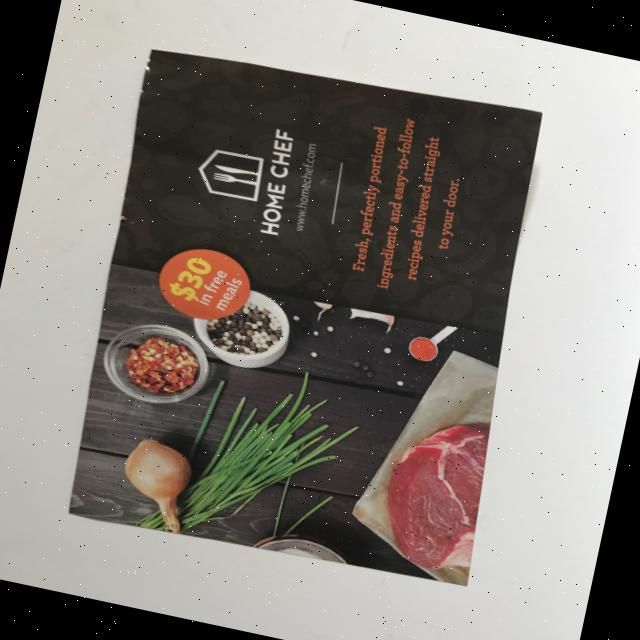paper: (51, 31, 564, 598)
